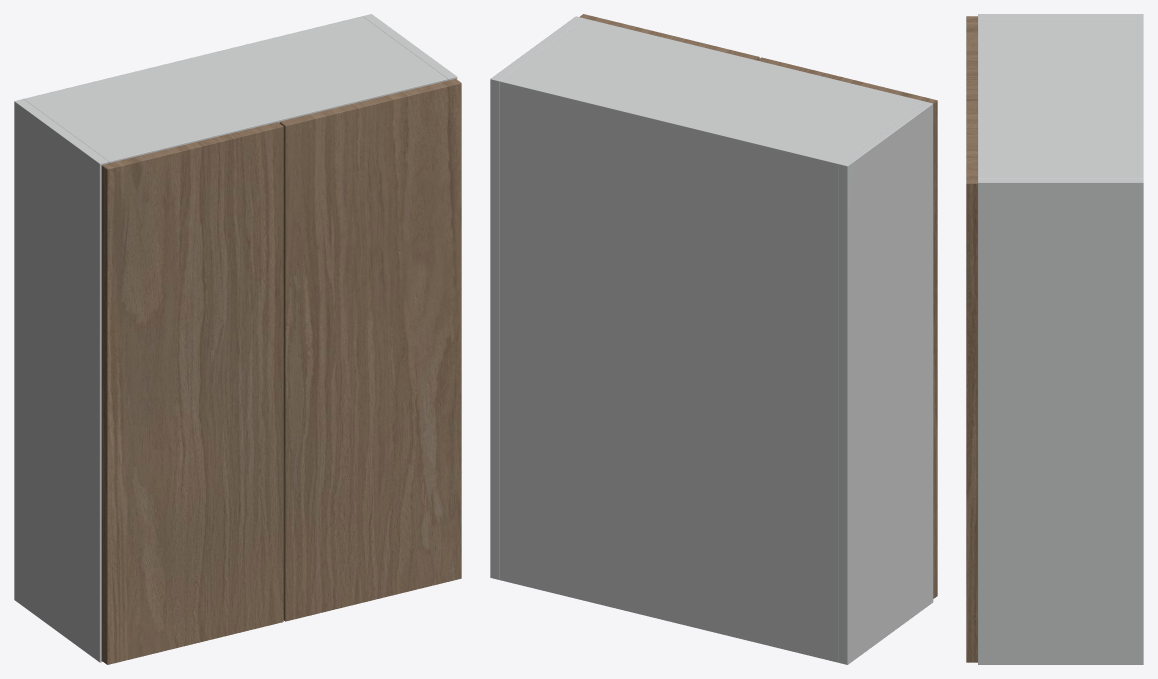
The model's file is oppein-ply-mnw-w2736.glb.
3 renders of one model, left to right at view 1: azimuth 30°, elevation 25°; view 2: azimuth 150°, elevation 25°; view 3: azimuth 270°, elevation 25°, orthographic. The views are drawn at different scales.
Visible parts, largest first — view 1: Door, Door.001, Cabinet side, Cabinet top, Cabinet back, Cabinet side.001; view 2: Cabinet back, Cabinet side, Cabinet top, Cabinet side.001, Door, Door.001; view 3: Cabinet side.001, Cabinet top, Door.001, Cabinet back, Door, Cabinet side.
Boxes of the visible parts, x1,y1,x2,y2 form: Door: [101, 122, 283, 664]; Door.001: [279, 78, 461, 621]; Cabinet side: [14, 99, 108, 662]; Cabinet top: [24, 18, 447, 163]; Cabinet back: [24, 16, 364, 100]; Cabinet side.001: [362, 14, 457, 80]; Cabinet back: [499, 79, 841, 662]; Cabinet side: [838, 101, 933, 664]; Cabinet top: [500, 18, 923, 171]; Cabinet side.001: [490, 16, 584, 579]; Door: [757, 57, 937, 598]; Door.001: [579, 14, 759, 60]; Cabinet side.001: [978, 178, 1143, 664]; Cabinet top: [978, 18, 1143, 178]; Door.001: [966, 100, 977, 662]; Cabinet back: [1137, 18, 1143, 178]; Door: [966, 16, 977, 100]; Cabinet side: [978, 14, 1143, 18].
Bounding box in the file's own units: 0.6858 × 0.9144 × 0.3048.
2 materials, 1 textured.
